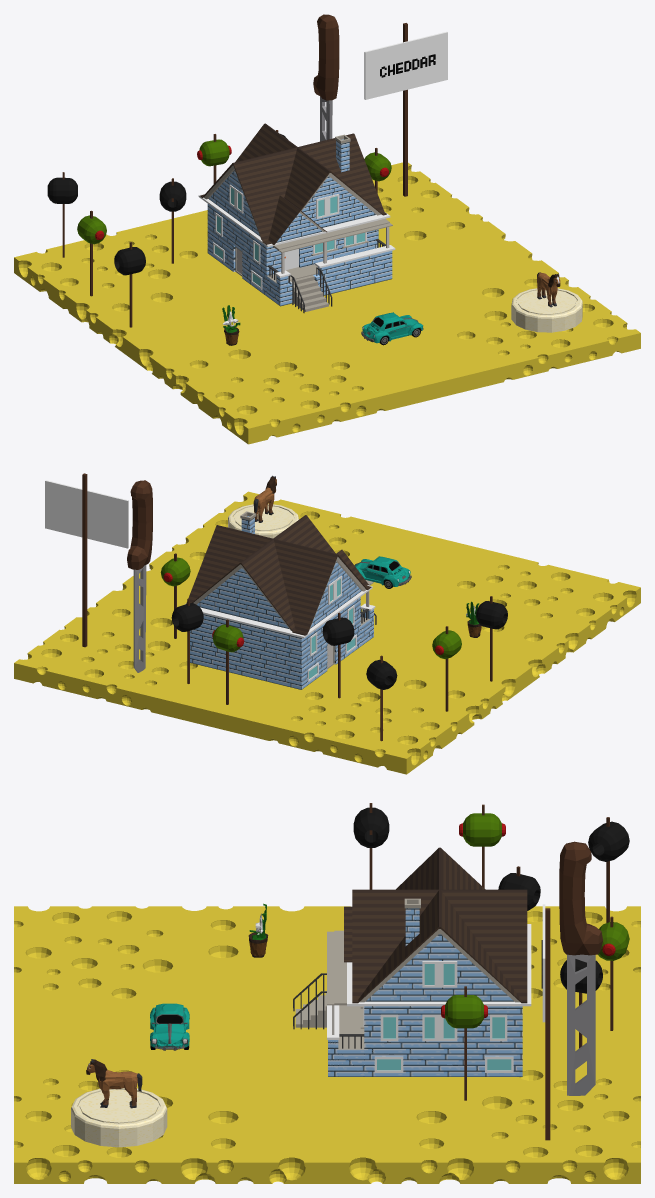
3 views of the same model, one above another, from view 1: azimuth 30°, elevation 25°; view 2: azimuth 150°, elevation 25°; view 3: azimuth 270°, elevation 25° (orthographic). The views are drawn at different scales.
Visible parts, largest first — view 1: Cube.022, Cube.547, Cube.023, Cylinder.016, Cube.024, VEHICLES_VOLKSWAGEN, Sphere.017, Sphere.016, Sphere.020, Sphere.018, Sphere.022, Sphere.019 (+1 smaller); view 2: Cube.022, Cube.547, Cube.023, Cube.024, Cylinder.016, VEHICLES_VOLKSWAGEN, Sphere.017, Sphere.020, Sphere.021, Sphere.016, Sphere.018, Sphere.022 (+2 smaller); view 3: Cube.022, Cube.547, Cube.024, Cylinder.016, Cube.023, VEHICLES_VOLKSWAGEN, Sphere.019, Sphere.016, Sphere.018, Sphere.017, ANIMAL_CABALLO, Sphere.022 (+3 smaller).
Boxes of the visible parts, <box> form: Cube.022: <box>14,162,640,444</box>; Cube.547: <box>198,123,395,313</box>; Cube.023: <box>364,23,447,196</box>; Cylinder.016: <box>511,288,582,332</box>; Cube.024: <box>313,14,339,141</box>; VEHICLES_VOLKSWAGEN: <box>361,312,423,345</box>; Sphere.017: <box>114,242,145,327</box>; Sphere.016: <box>47,172,77,257</box>; Sphere.020: <box>159,178,186,263</box>; Sphere.018: <box>77,210,106,296</box>; Sphere.022: <box>197,134,231,183</box>; Sphere.019: <box>364,148,391,192</box>; Cube.022: <box>14,491,640,774</box>; Cube.547: <box>185,511,376,689</box>; Cube.023: <box>45,473,128,647</box>; Cube.024: <box>127,480,152,672</box>; Cylinder.016: <box>228,503,298,538</box>; VEHICLES_VOLKSWAGEN: <box>354,556,411,588</box>; Sphere.017: <box>476,596,507,681</box>; Sphere.020: <box>322,612,354,698</box>; Sphere.021: <box>171,598,203,683</box>; Sphere.016: <box>366,655,397,741</box>; Sphere.018: <box>432,626,461,711</box>; Sphere.022: <box>212,619,244,704</box>; Cube.022: <box>14,906,640,1183</box>; Cube.547: <box>293,847,531,1076</box>; Cube.024: <box>559,841,602,1095</box>; Cylinder.016: <box>71,1088,167,1147</box>; Cube.023: <box>541,904,550,1140</box>; VEHICLES_VOLKSWAGEN: <box>150,1003,189,1050</box>; Sphere.019: <box>441,986,487,1100</box>; Sphere.016: <box>588,817,629,922</box>; Sphere.018: <box>459,804,505,887</box>; Sphere.017: <box>353,803,389,889</box>; ANIMAL_CABALLO: <box>86,1059,142,1108</box>; Sphere.022: <box>598,916,629,1030</box>.
Size of the model in its own units: 3917 by 2007 by 4000.
42 materials, 4 textured.
